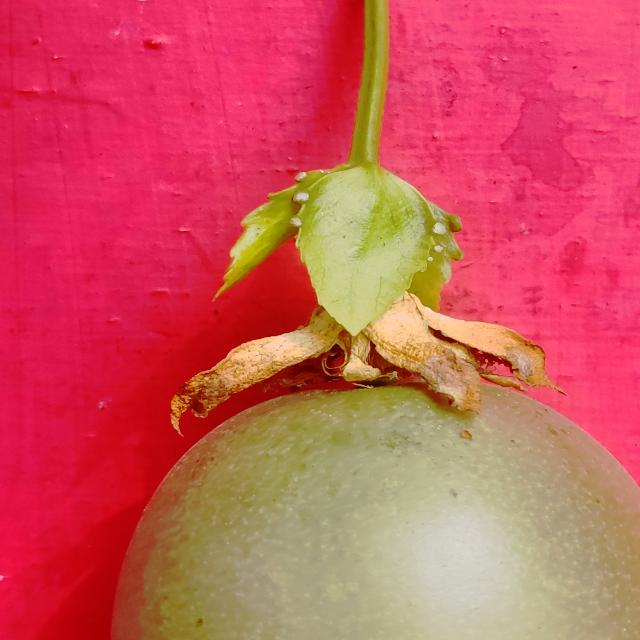Estado-2: (112, 161, 640, 640)
